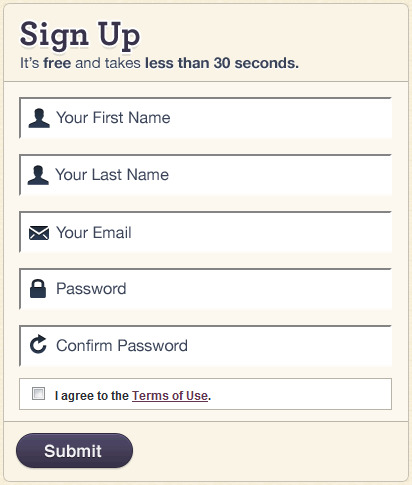_form_: (1, 62, 412, 478)
button: (16, 433, 135, 468)
checkbox: (30, 383, 47, 405)
field: (18, 325, 397, 369), (18, 97, 394, 141), (18, 211, 394, 255), (18, 268, 394, 311), (18, 154, 392, 197)
